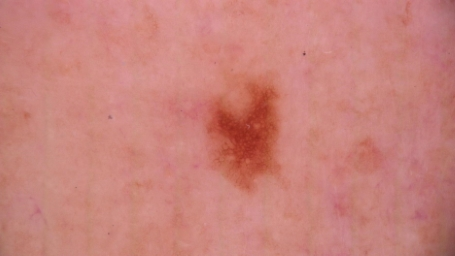melanoma: (213, 82, 280, 185)
